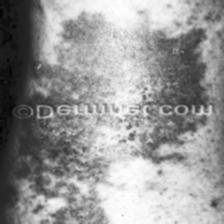Non-Cancerous Skin Condition: (22, 122, 204, 224), (38, 18, 218, 98)
